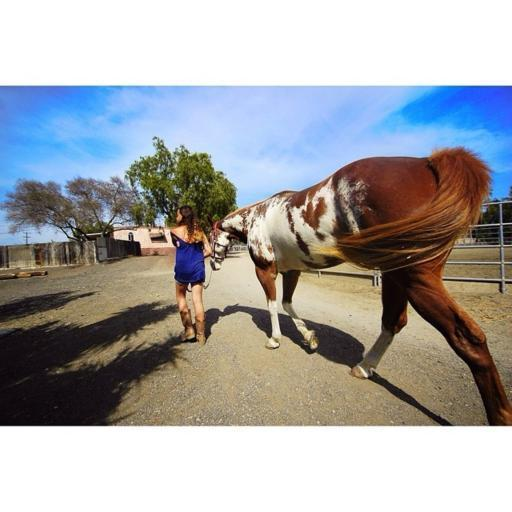horse: (204, 144, 511, 426)
